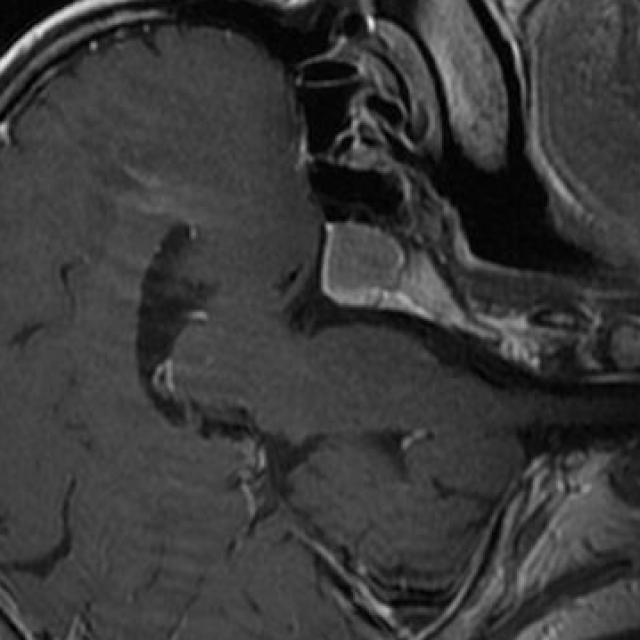pituitary: (321, 223, 406, 291)
